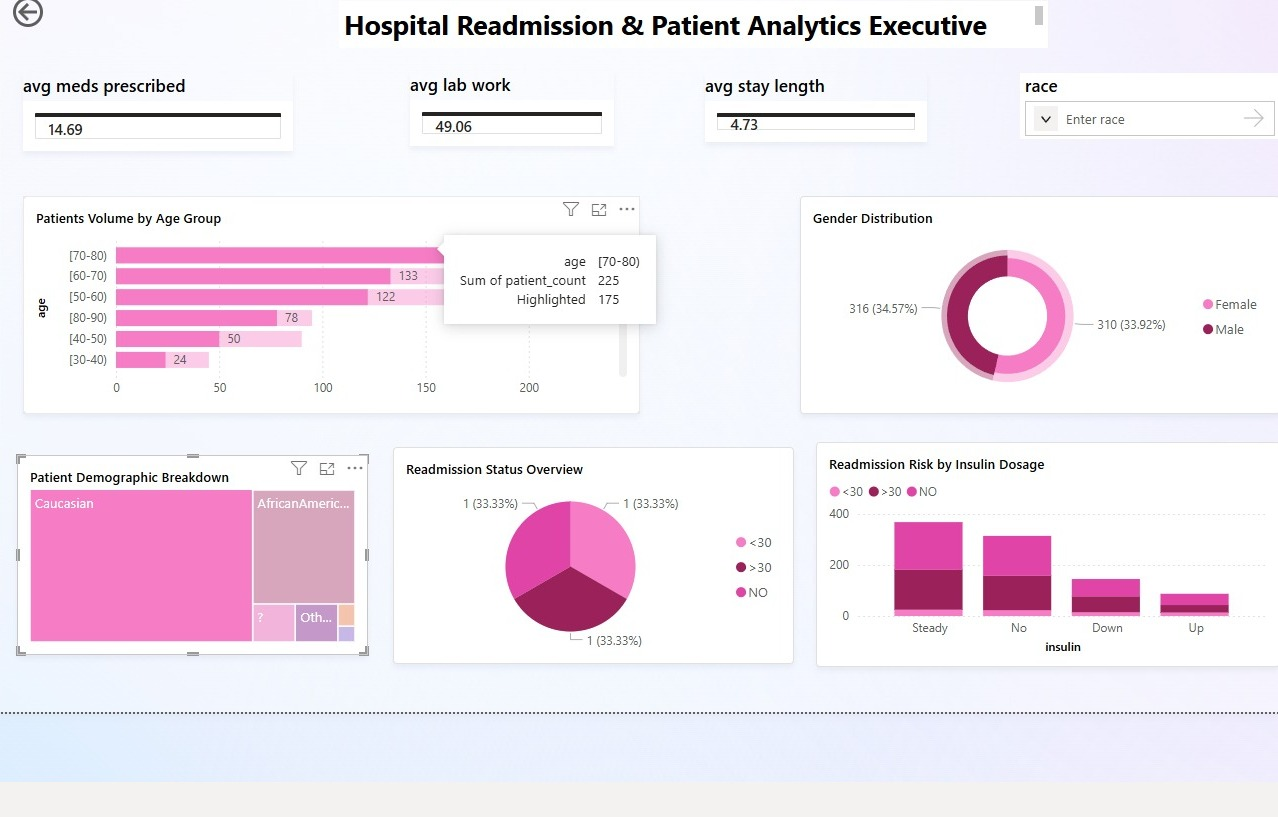

Layout of this report page (visuals, bound fields, positions):
{"tool":"powerbi","page":{"name":"Page 1","canvas":[1280,720],"ordinal":0},"visuals":[{"type":"clusteredBarChart","title":"Patients Volume by Age Group","fields":{"Category":["demographics.age"],"Y":["Sum(demographics.patient_count)"]},"box":[23.3,204.4,616.7,217.4],"z":0},{"type":"donutChart","title":"Gender Distribution","fields":{"Category":["demographics.gender"],"Y":["Sum(demographics.patient_count)"]},"box":[799.6,204.4,480.4,217.4],"z":1000},{"type":"treemap","title":"Patient Demographic Breakdown","fields":{"Group":["demographics.race"],"Values":["Sum(demographics.patient_count)"]},"box":[17.3,463.2,351.1,200.1],"z":2000},{"type":"cardVisual","title":"avg stay length","fields":{"Data":["Sum(efficiency.avg_stay_length)"]},"box":[704.7,81.1,222.5,69],"z":3000},{"type":"actionButton","box":[7.8,0,100.2,39.9],"z":4000},{"type":"pieChart","title":"Readmission Status Overview","fields":{"Category":["readmissions.readmitted"],"Y":["CountNonNull(readmissions.total_cases)"]},"box":[393.3,454.6,400.2,217.4],"z":5000},{"type":"columnChart","title":"Readmission Risk by Insulin Dosage","fields":{"Category":["medication_trends.insulin"],"Y":["Sum(medication_trends.count)"],"Series":["medication_trends.readmitted"]},"box":[816,450.2,464,225.1],"z":6000},{"type":"textbox","box":[339,9.5,709,46.6],"z":7000},{"type":"textSlicer","fields":{"Values":["demographics.race"]},"box":[1019.5,81.1,260.5,65.6],"z":8000},{"type":"cardVisual","title":"avg meds prescribed","fields":{"Data":["Sum(efficiency.avg_meds_prescribed)"]},"box":[23.3,81.1,270,77.6],"z":9000},{"type":"cardVisual","title":"avg lab work","fields":{"Data":["Sum(efficiency.avg_lab_work)"]},"box":[409.7,80.2,204.4,74.2],"z":9001}]}

Visuals, with their boxes on the page's 1280x720 design canvas (x1, y1, x2, y2). These are canvas units, not pixel positions in the 1278x817 screenshot, which may show the page scaled, cropped or inside an application window:
"Patients Volume by Age Group" clusteredBarChart: {"x1": 23, "y1": 204, "x2": 640, "y2": 422}
"Gender Distribution" donutChart: {"x1": 800, "y1": 204, "x2": 1280, "y2": 422}
"Patient Demographic Breakdown" treemap: {"x1": 17, "y1": 463, "x2": 368, "y2": 663}
"avg stay length" cardVisual: {"x1": 705, "y1": 81, "x2": 927, "y2": 150}
actionButton: {"x1": 8, "y1": 0, "x2": 108, "y2": 40}
"Readmission Status Overview" pieChart: {"x1": 393, "y1": 455, "x2": 794, "y2": 672}
"Readmission Risk by Insulin Dosage" columnChart: {"x1": 816, "y1": 450, "x2": 1280, "y2": 675}
textbox: {"x1": 339, "y1": 10, "x2": 1048, "y2": 56}
textSlicer - demographics.race: {"x1": 1020, "y1": 81, "x2": 1280, "y2": 147}
"avg meds prescribed" cardVisual: {"x1": 23, "y1": 81, "x2": 293, "y2": 159}
"avg lab work" cardVisual: {"x1": 410, "y1": 80, "x2": 614, "y2": 154}
